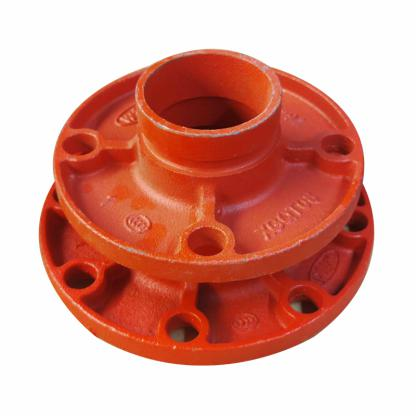FOD: (50, 44, 369, 279)
